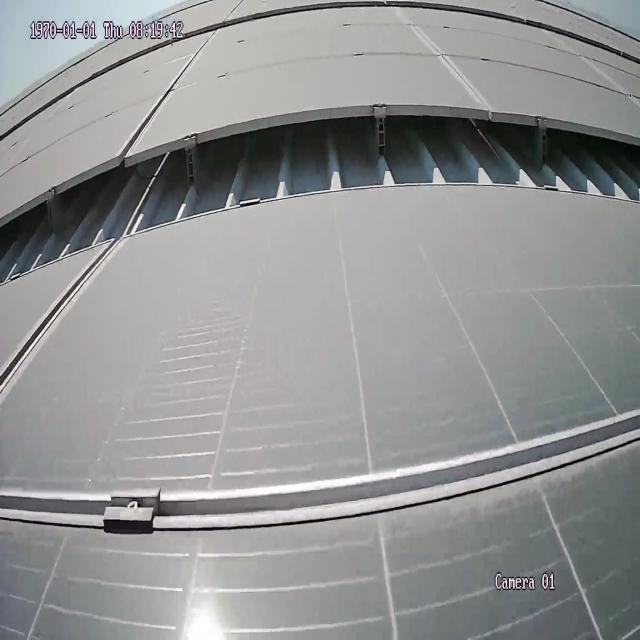interior panel: (7, 413, 640, 532), (1, 257, 106, 408), (124, 37, 210, 147), (391, 17, 488, 97)
outher panel: (3, 100, 640, 285)
